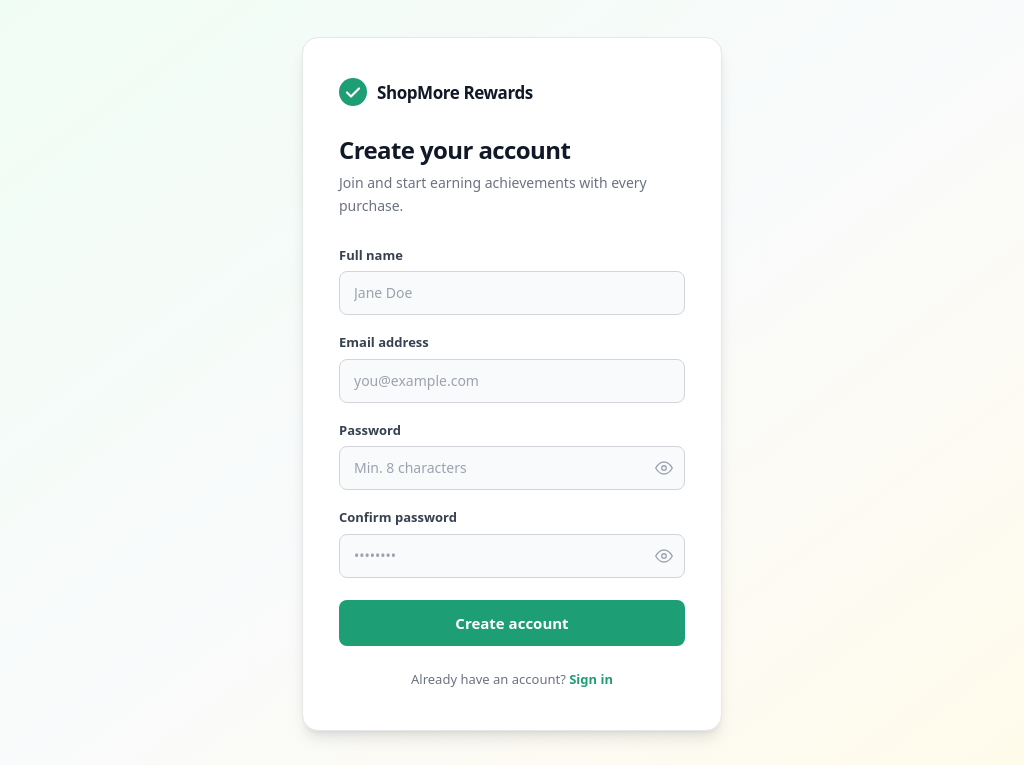
Test: RegisterPage › blocks submission and shows error when password does not meet policy
In the field labelled "Full name": (512, 293) [339,271,685,315], type "Test User"
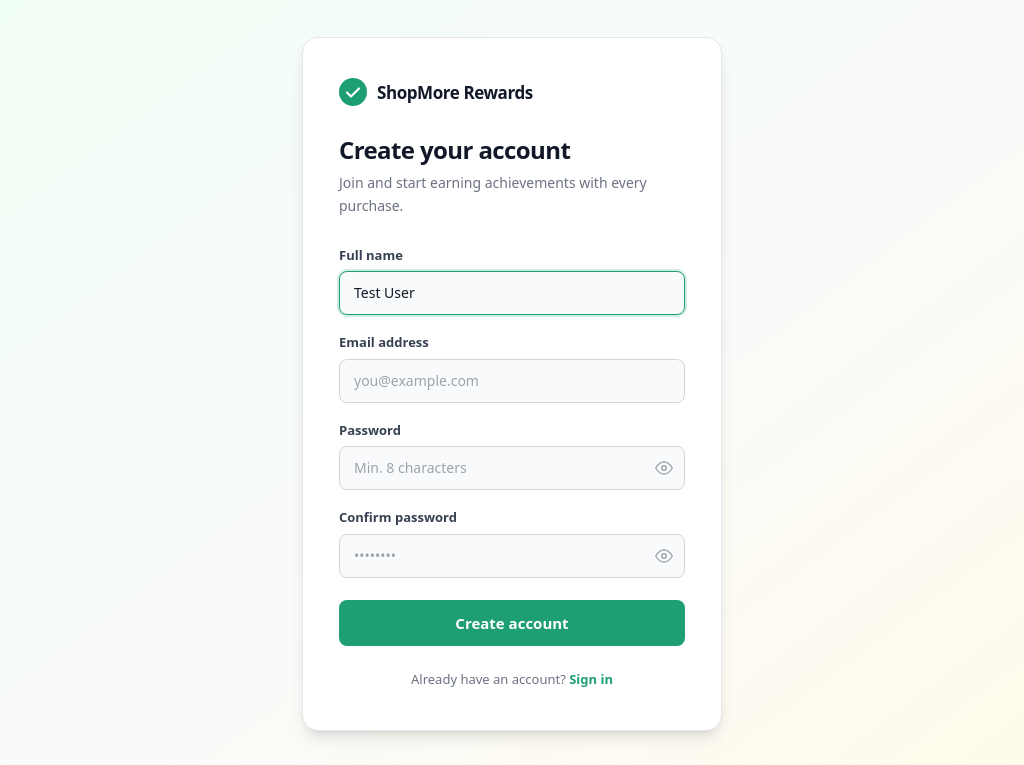
In the field labelled "Email address": (512, 381) [339,359,685,403], type "test@example.com"
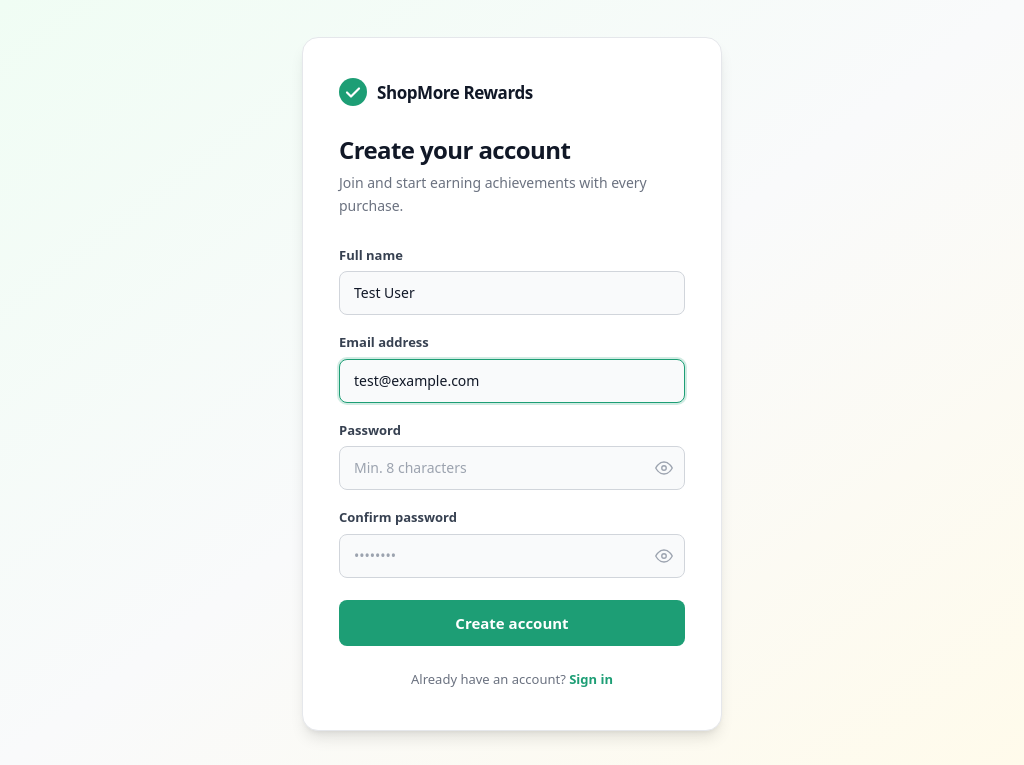
In the password field labelled "Password": (512, 468) [339,446,685,490], type "weak"
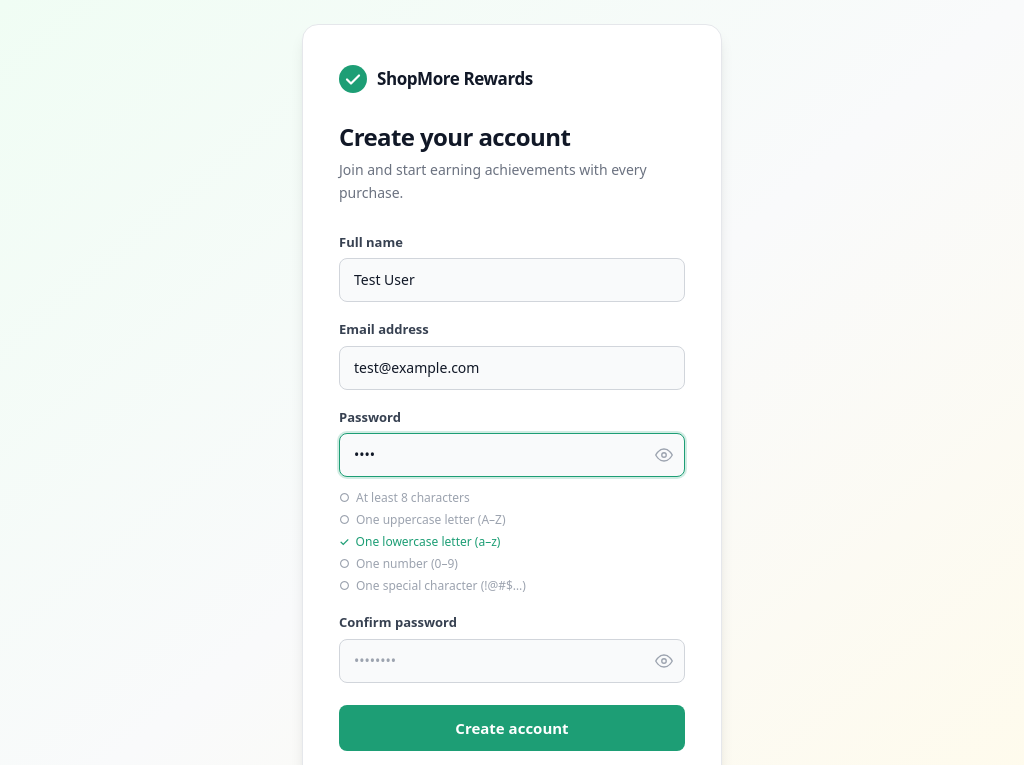
In the password field labelled "Confirm password": (512, 660) [339,638,685,682], type "weak"
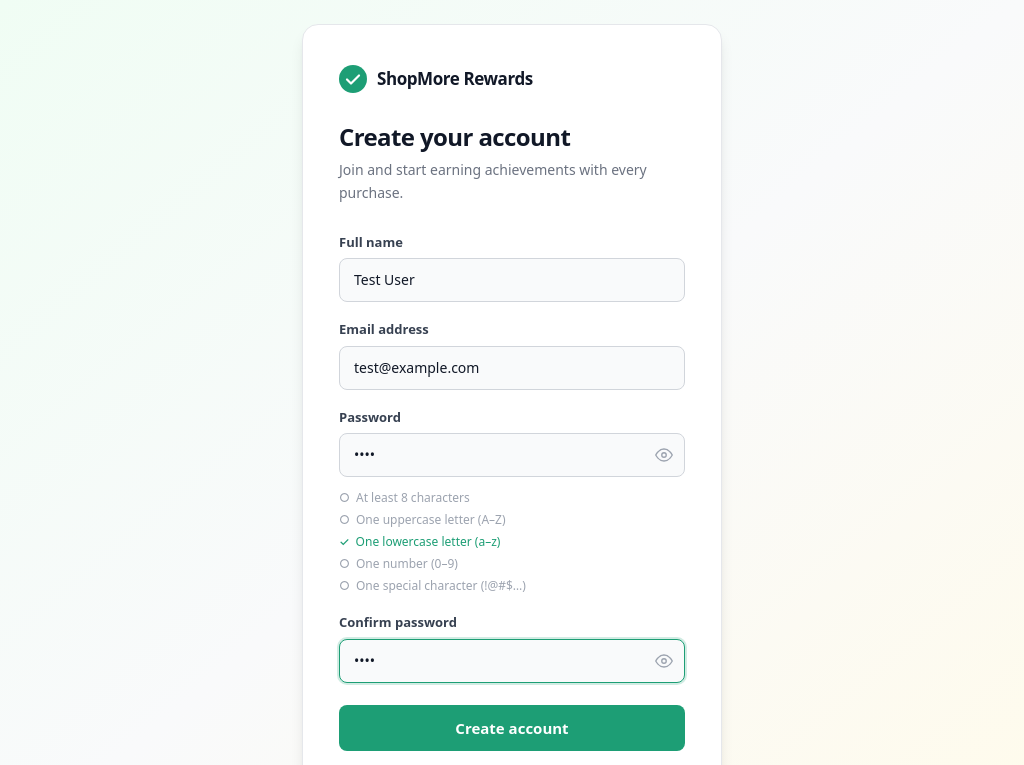
Click the button "Create account": (512, 728) [339,704,685,751]
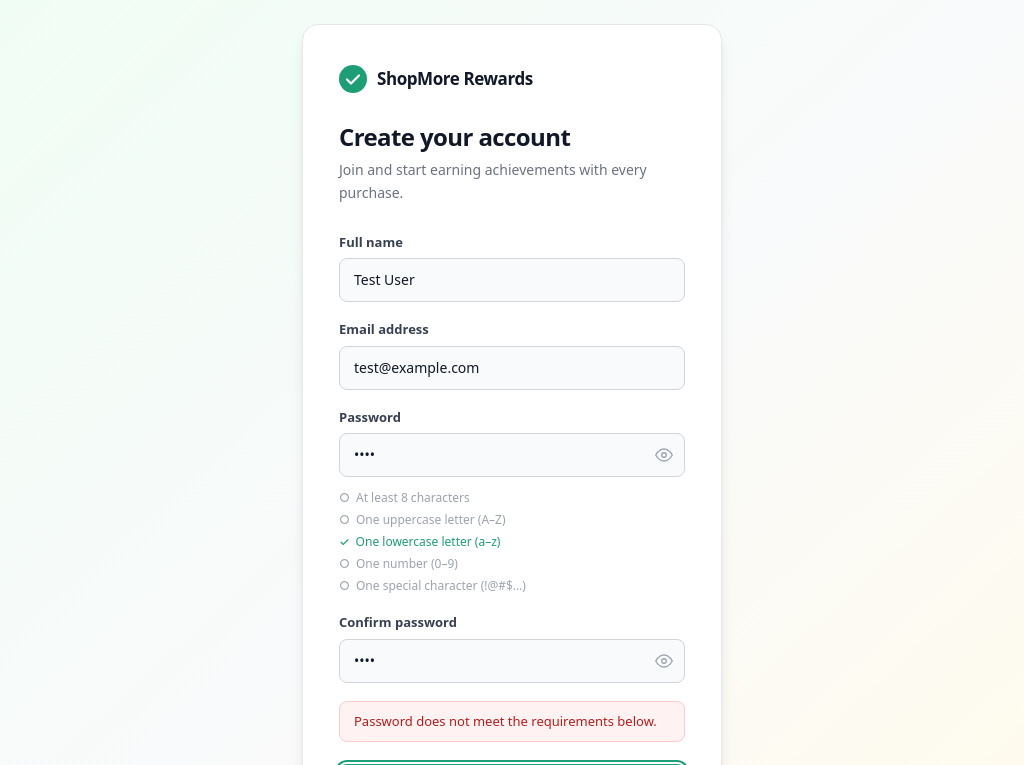
Check: the message shows "Password does not meet", box [354,712,657,730]
